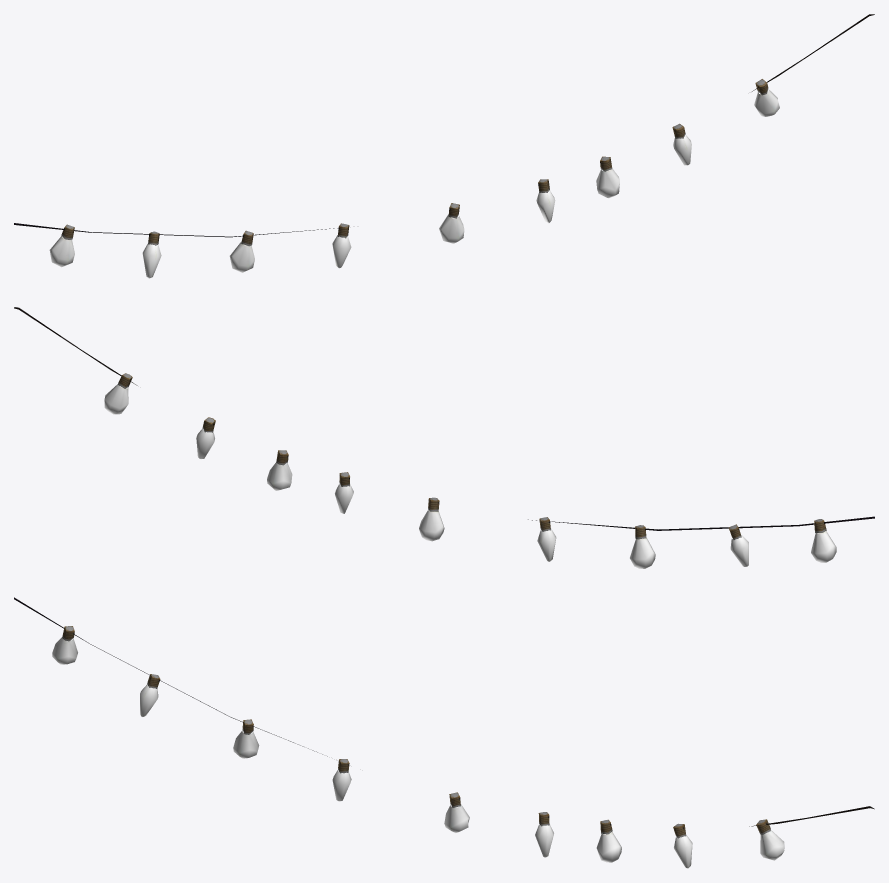
The model's file is string_lights_450_a.glb.
The picture shows the model from 3 angles, top to bottom: view 1: azimuth 30°, elevation 25°; view 2: azimuth 150°, elevation 25°; view 3: azimuth 330°, elevation 25°; orthographic projection.
Parts seen in each view (by area): view 1: string_lights_450_a; view 2: string_lights_450_a; view 3: string_lights_450_a.
Part boxes in pixels (x1,y1,x2,y2): string_lights_450_a: [14, 14, 874, 278]; string_lights_450_a: [14, 307, 874, 568]; string_lights_450_a: [14, 597, 874, 868].
Bounding box in the file's own units: 4.5 × 0.6449 × 0.1437.
1 material, 1 textured.
